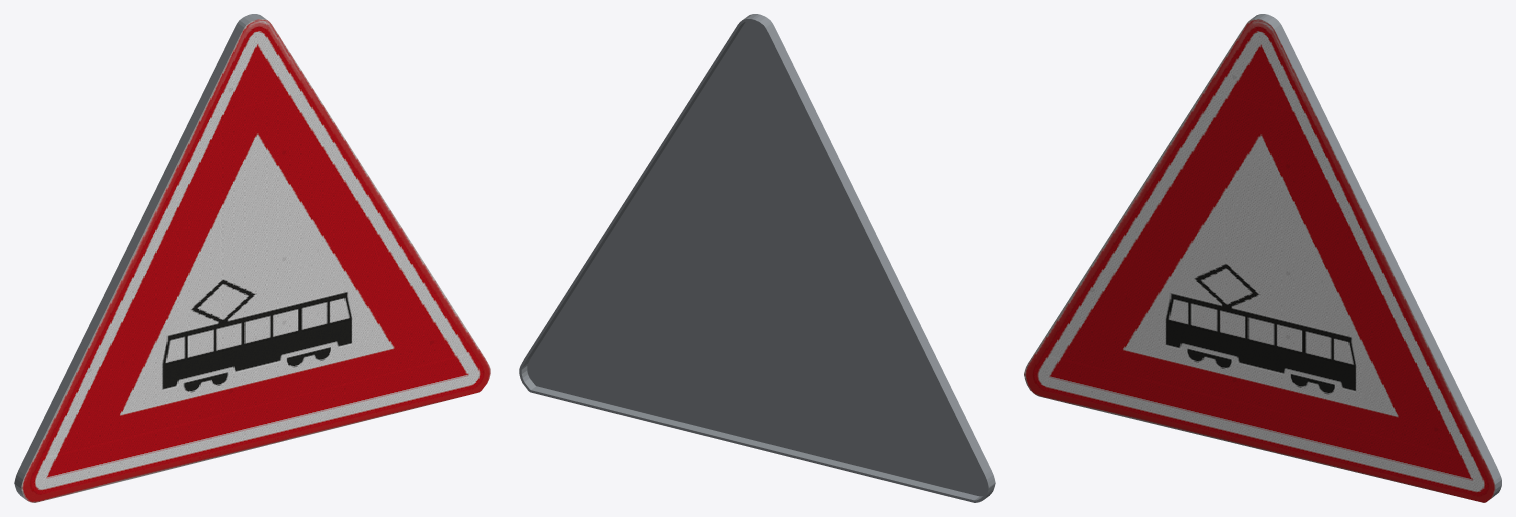
3 views of the same model, side by side, from view 1: azimuth 30°, elevation 25°; view 2: azimuth 150°, elevation 25°; view 3: azimuth 330°, elevation 25° (orthographic).
Parts seen in each view (by area): view 1: cat_7334e6f1b87fef04; view 2: cat_7334e6f1b87fef04; view 3: cat_7334e6f1b87fef04.
Boxes of the visible parts, box(x1,y1,x2,y2) form: cat_7334e6f1b87fef04: box(14, 14, 490, 502); cat_7334e6f1b87fef04: box(519, 14, 995, 502); cat_7334e6f1b87fef04: box(1024, 14, 1501, 502).
Bounding box in the file's own units: 0.6 × 0.015 × 0.5245.
2 materials, 1 textured.
